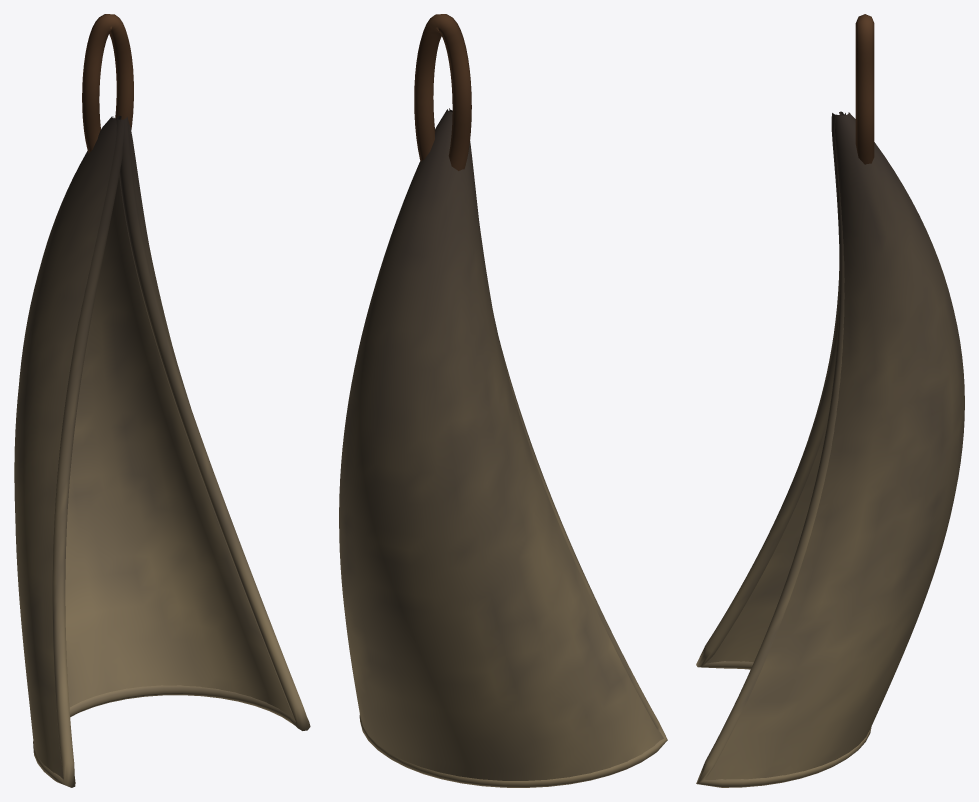
File: seed-scoop.glb
3 renders of one model, left to right at view 1: azimuth 30°, elevation 25°; view 2: azimuth 150°, elevation 25°; view 3: azimuth 270°, elevation 25°, orthographic. The views are drawn at different scales.
Parts seen in each view (by area): view 1: seed-scoop; view 2: seed-scoop; view 3: seed-scoop.
Boxes of the visible parts, left/top/right/bottom form: seed-scoop: left=14, top=14, right=310, bottom=787; seed-scoop: left=339, top=14, right=667, bottom=787; seed-scoop: left=696, top=14, right=964, bottom=787.
Size of the model in its own units: 0.0573 by 0.152 by 0.052.
